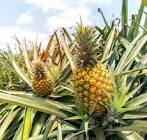Pineapple: (72, 25, 116, 115), (32, 60, 53, 97)
